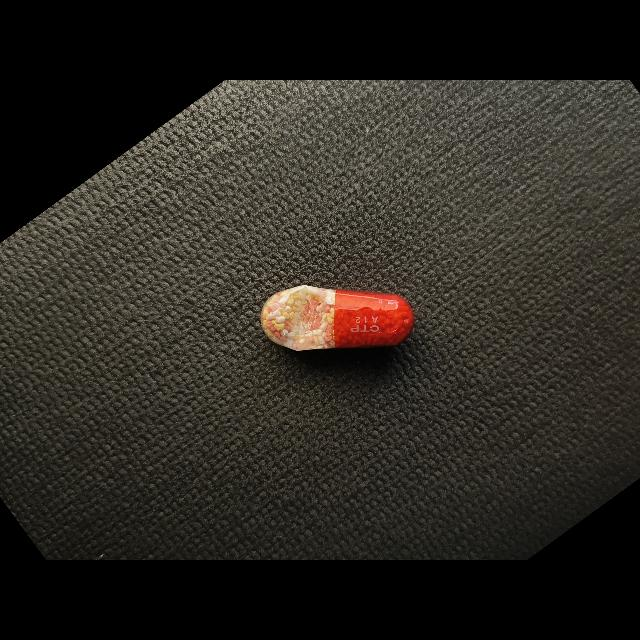Defective Capsule: (261, 285, 414, 351)
